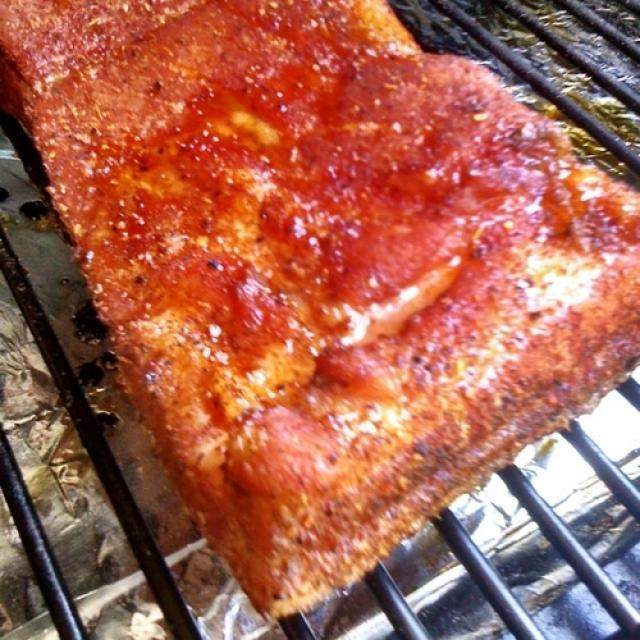牛肉菜式: (26, 23, 620, 599)
